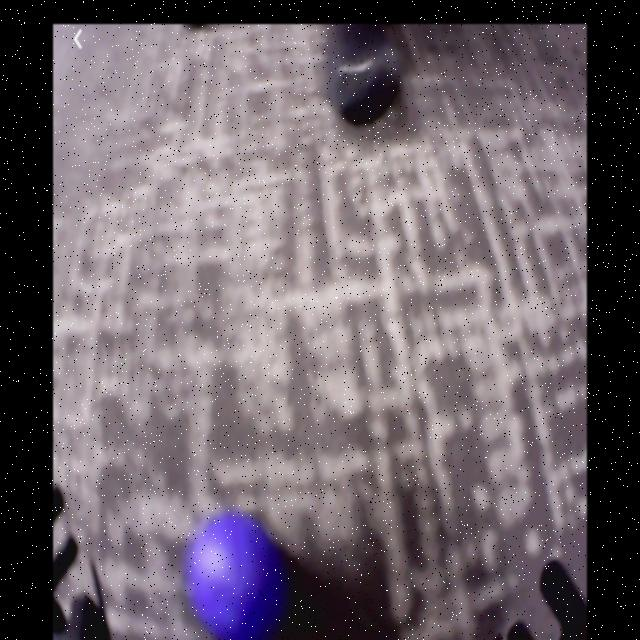ball: (187, 513, 278, 638)
